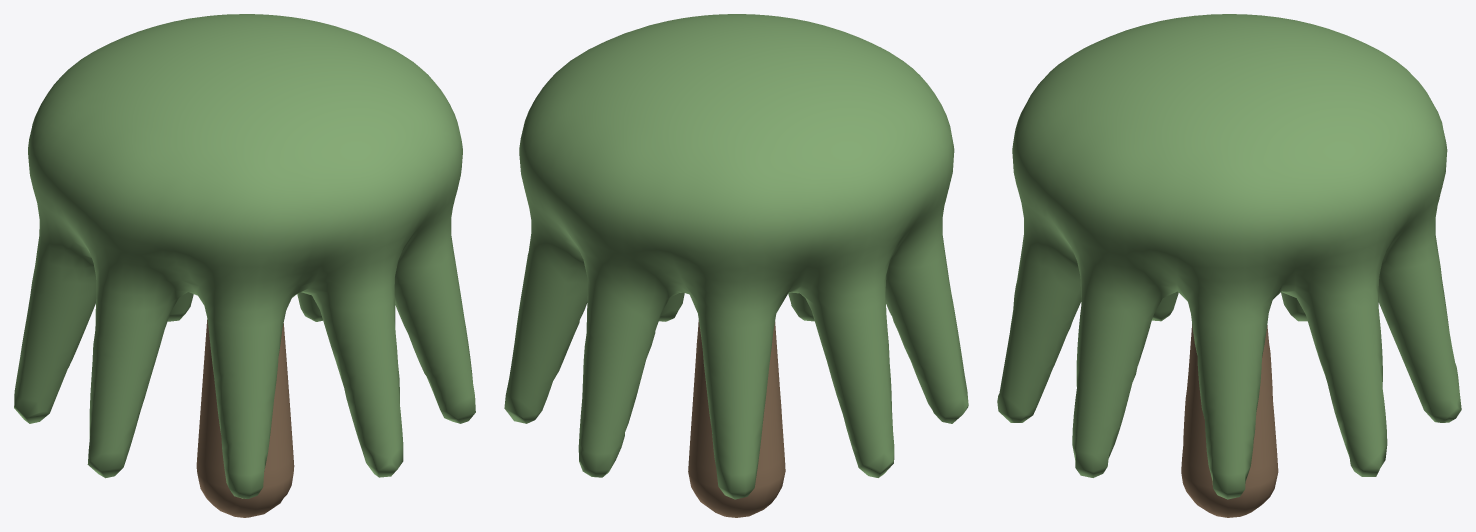
The model's file is willow.glb.
The picture shows the model from 3 angles, left to right: view 1: azimuth 30°, elevation 25°; view 2: azimuth 150°, elevation 25°; view 3: azimuth 270°, elevation 25°; orthographic projection.
Parts seen in each view (by area): view 1: willow; view 2: willow; view 3: willow.
Boxes of the visible parts, x1,y1,x2,y2 form: willow: [14, 14, 475, 517]; willow: [504, 14, 968, 517]; willow: [997, 14, 1461, 517].
Size of the model in its own units: 93.13 by 104 by 94.45.
